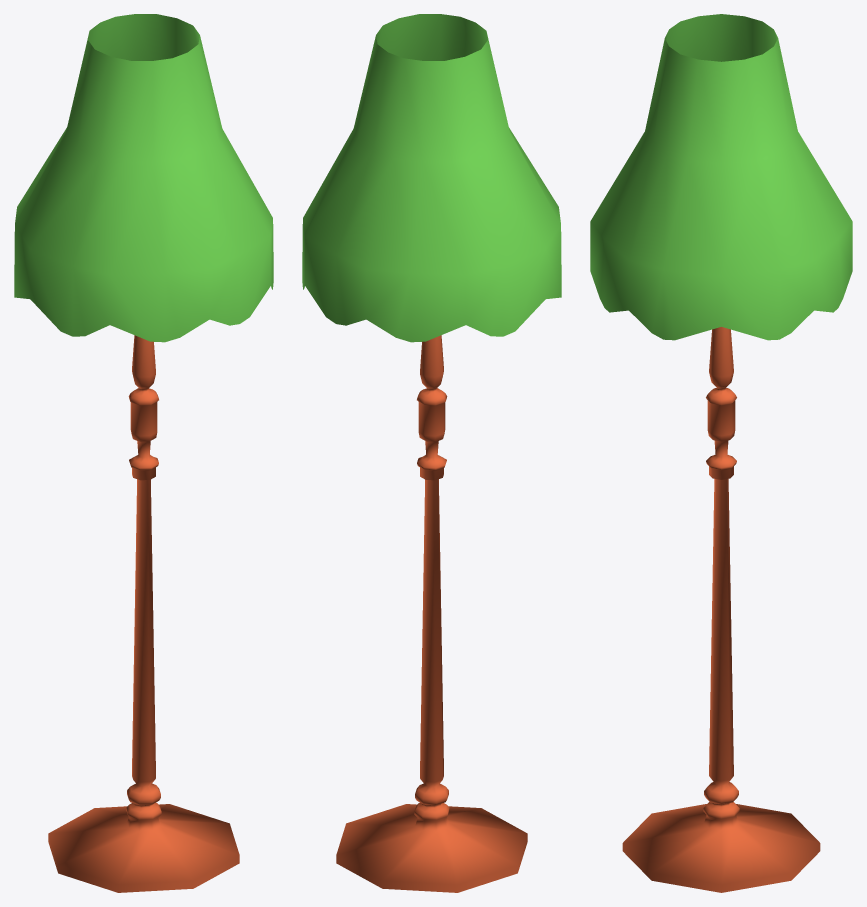
Rendered from Floor_Lamp.fbx.
3 renders of one model, left to right at view 1: azimuth 30°, elevation 25°; view 2: azimuth 150°, elevation 25°; view 3: azimuth 270°, elevation 25°, orthographic.
Parts seen in each view (by area): view 1: Cylinder.002, Cylinder.003; view 2: Cylinder.002, Cylinder.003; view 3: Cylinder.002, Cylinder.003.
Part boxes in pixels (box(x1,y1,x2,y2)): Cylinder.002: box(14, 14, 273, 342); Cylinder.003: box(48, 335, 239, 892); Cylinder.002: box(302, 14, 561, 342); Cylinder.003: box(336, 335, 527, 892); Cylinder.002: box(590, 14, 852, 340); Cylinder.003: box(622, 327, 820, 892).
Size of the model in its own units: 53.17 by 182 by 53.17.
